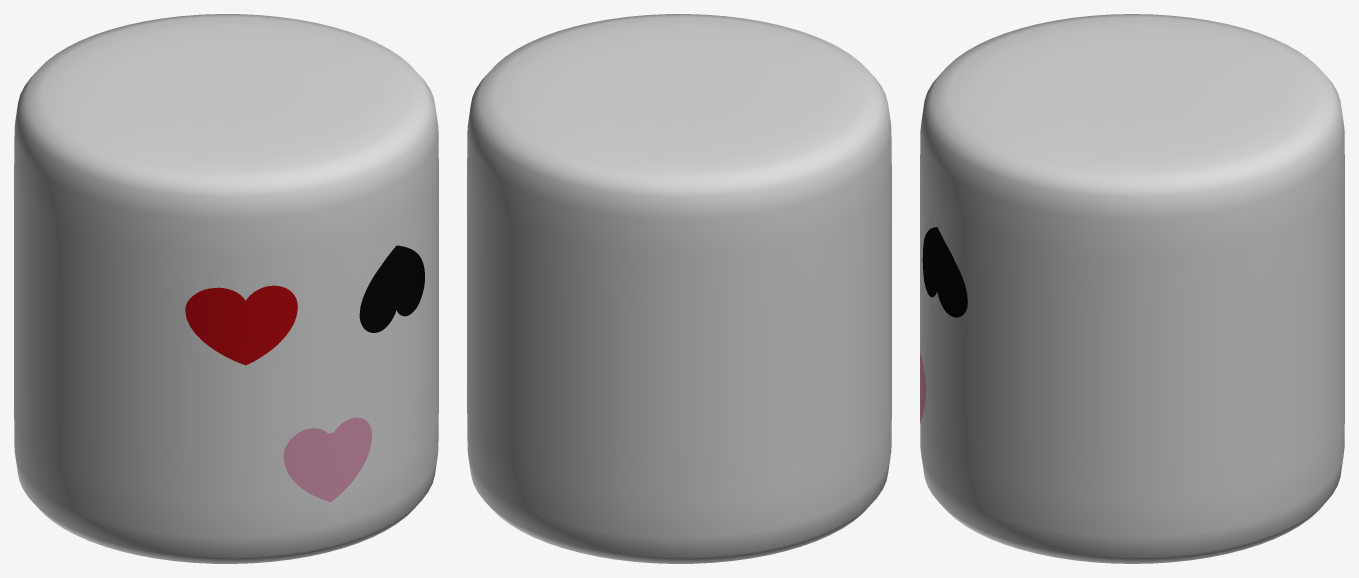
The model's file is marsmelow_kafa_2.fbx.
3 views of the same model, side by side, from view 1: azimuth 30°, elevation 25°; view 2: azimuth 150°, elevation 25°; view 3: azimuth 270°, elevation 25° (orthographic).
Parts seen in each view (by area): view 1: Cylinder; view 2: Cylinder; view 3: Cylinder.
Boxes of the visible parts, x1,y1,x2,y2 form: Cylinder: (14, 14, 438, 563); Cylinder: (467, 14, 891, 563); Cylinder: (920, 14, 1344, 563).
Bounding box in the file's own units: 195 × 200 × 195.
